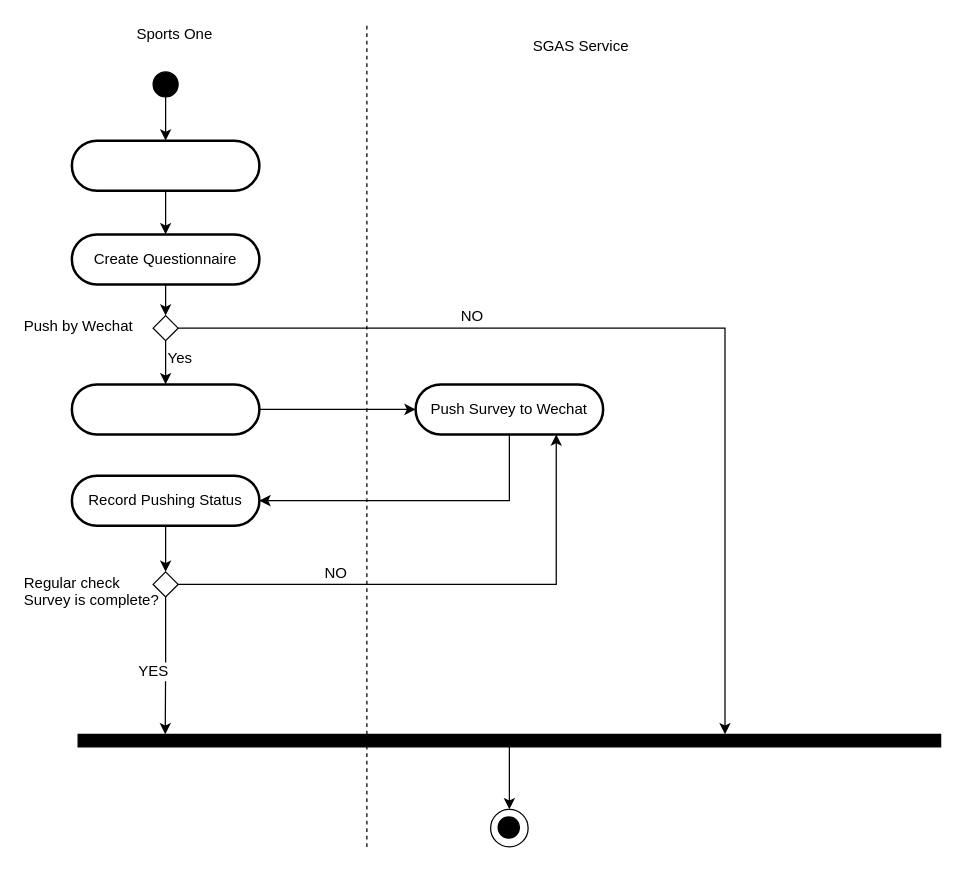
The diagram is 963 pixels wide and 870 high, and some of its shapes have lost their labels. The centre of each missing label's shape, as x and y in pixels:
"Generate Pushing Survey" belongs at point 165,408.
"Start" belongs at point 165,165.
